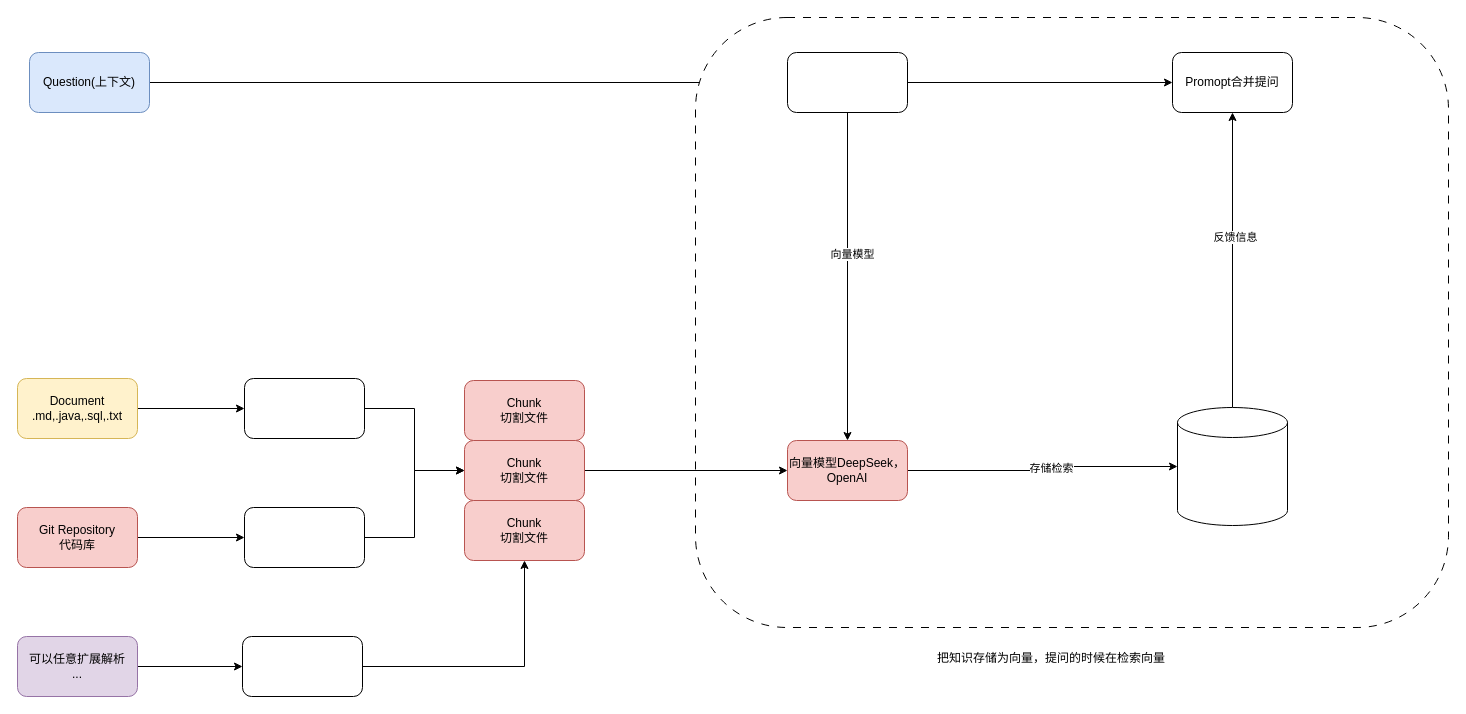
This 1466x714 diagram has some shape labels left out. Each missing label, with the centre of its shape:
"Standalone" goes at point (847, 82).
"VectorStore" goes at point (1232, 466).
"上传、解析、打标" goes at point (304, 408).
"检出、遍历、打标" goes at point (304, 537).
"爬虫、遍历、打标" goes at point (302, 666).
